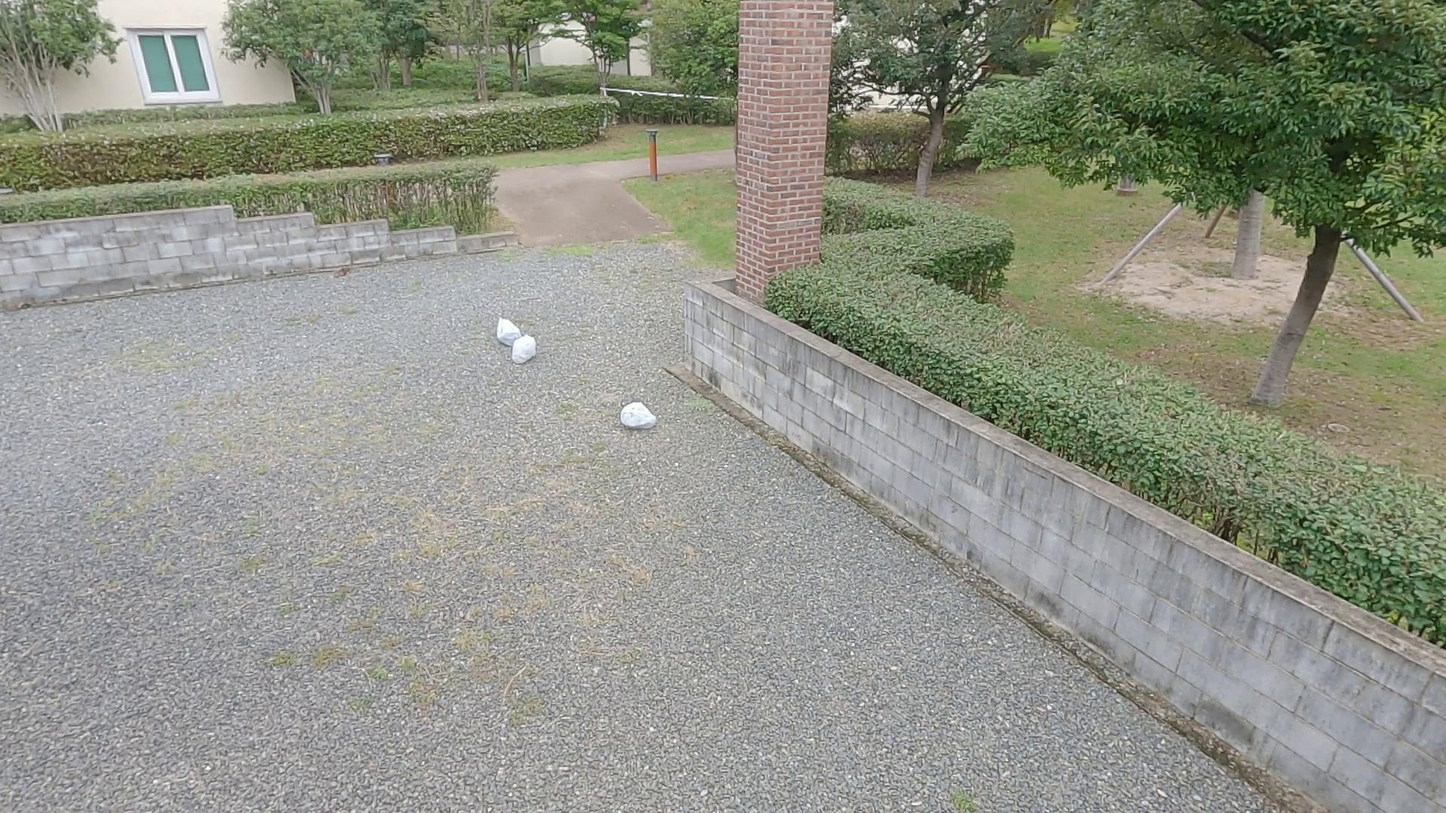trash: (618, 398, 662, 433), (496, 312, 525, 348), (510, 337, 537, 366)
